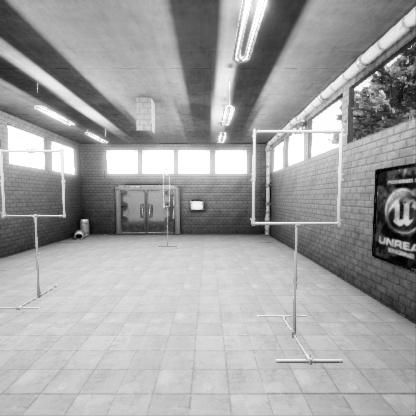gate: (255, 194, 353, 290), (7, 202, 74, 267), (163, 209, 170, 244)
